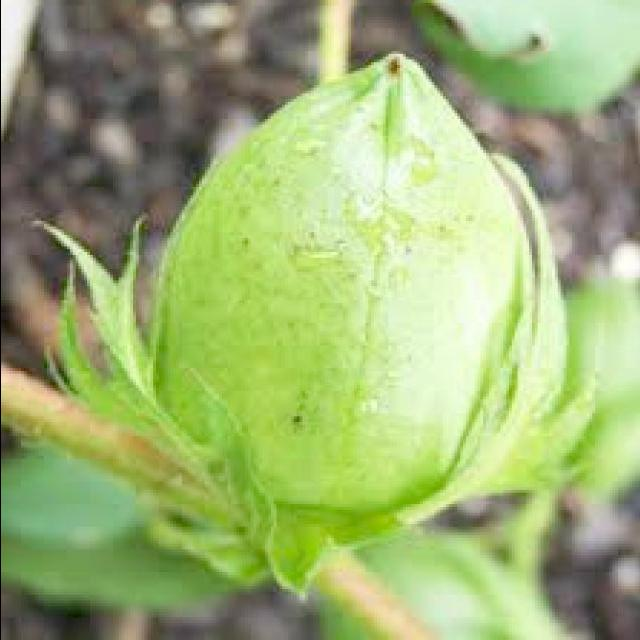Early Boll: (120, 51, 572, 581)
